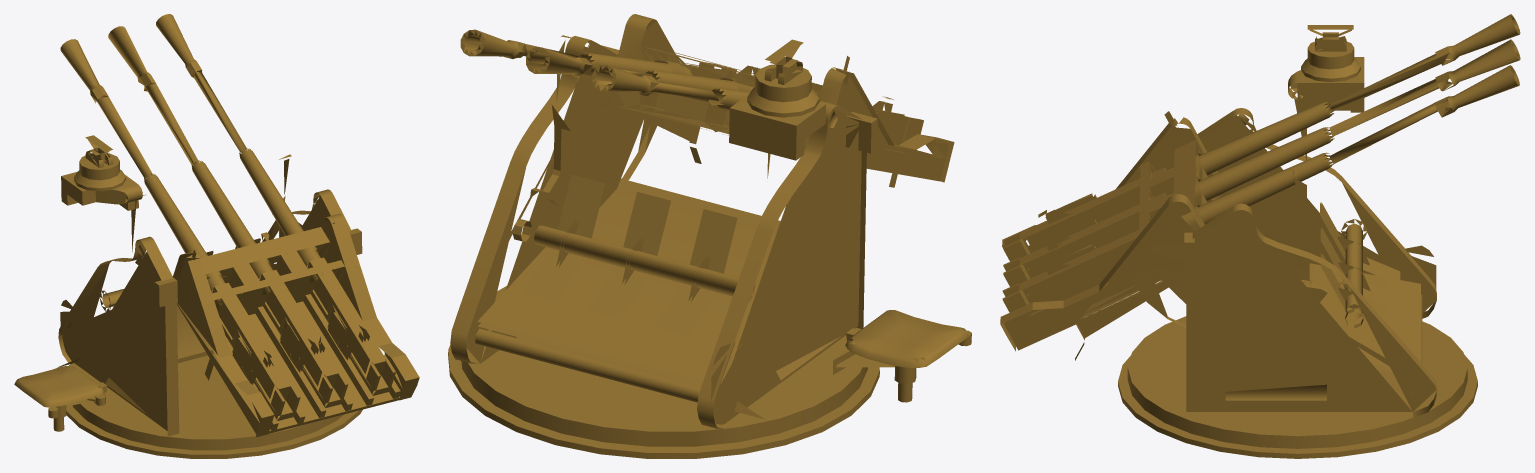
The model's file is Type9625mmLOD0.glb.
The picture shows the model from 3 angles, left to right: view 1: azimuth 30°, elevation 25°; view 2: azimuth 150°, elevation 25°; view 3: azimuth 270°, elevation 25°; orthographic projection. The views are drawn at different scales.
Parts seen in each view (by area): view 1: 1; view 2: 1; view 3: 1.
Part boxes in pixels (box(x1,y1,x2,y2)): 1: box(14, 14, 419, 458); 1: box(448, 14, 971, 458); 1: box(1000, 14, 1520, 458).
Size of the model in its own units: 8.93 by 7.79 by 10.55.
